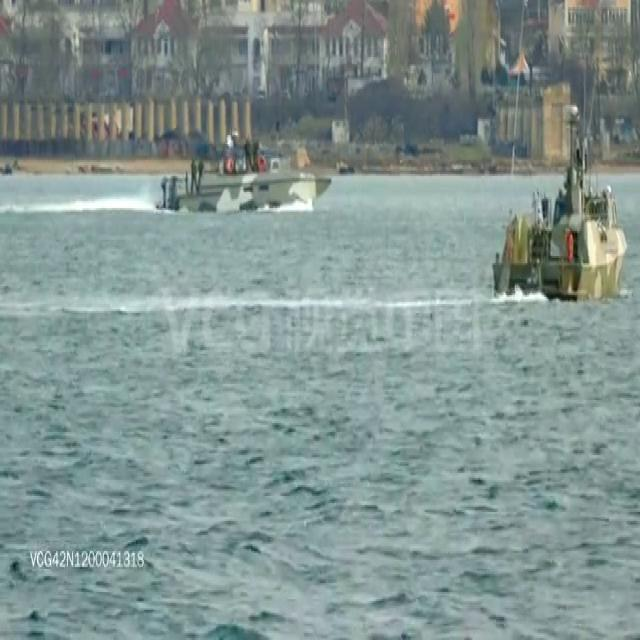houseboat: (490, 114, 625, 302), (161, 133, 331, 214)
